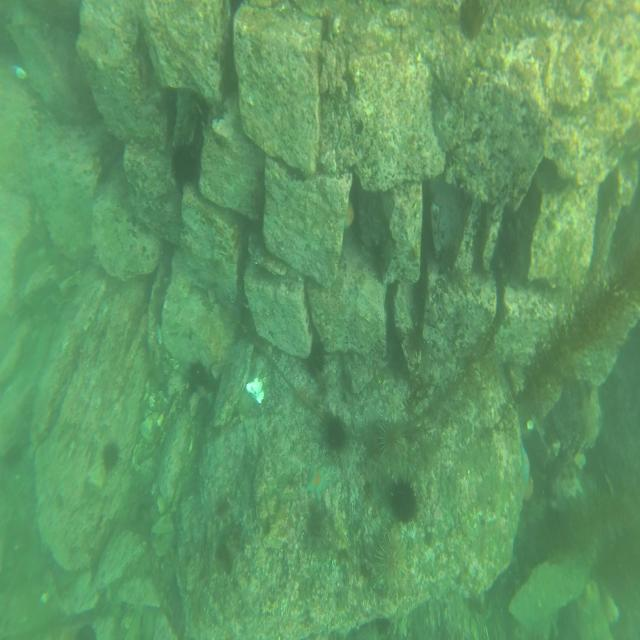echinus: (372, 528, 414, 610), (375, 412, 411, 470), (385, 472, 423, 526), (168, 138, 198, 190), (322, 414, 349, 454), (184, 353, 212, 391), (100, 438, 124, 476), (73, 621, 99, 640)
scallop: (245, 372, 267, 408)
starfish: (302, 459, 330, 502), (517, 436, 532, 490), (342, 194, 356, 232)
